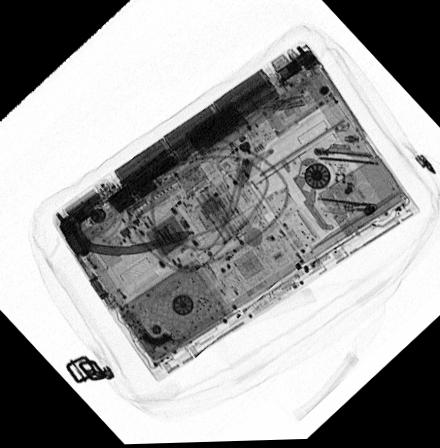Baton: (82, 65, 291, 233)
